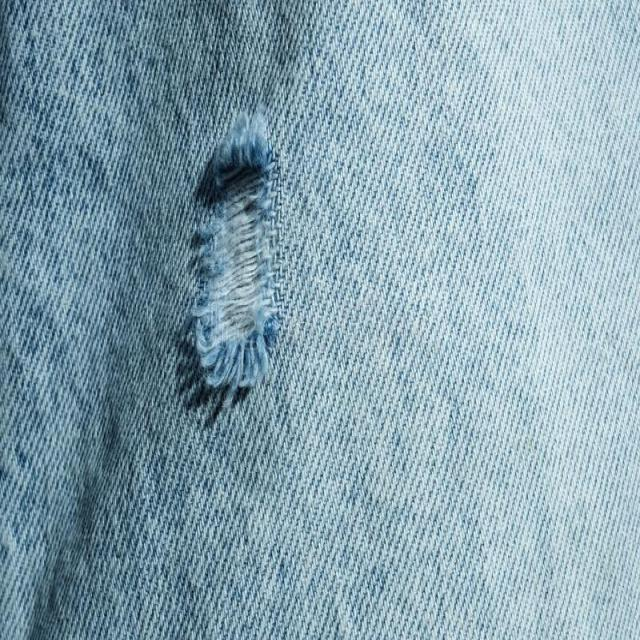Hole: (192, 109, 279, 392)
